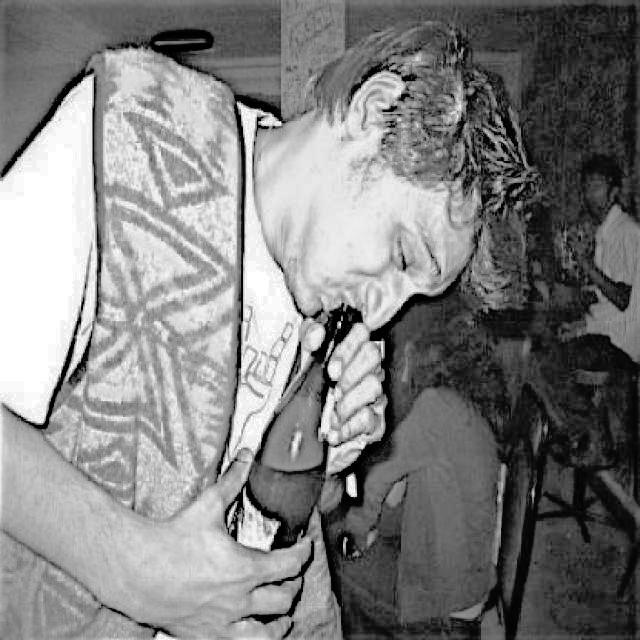Person: (0, 17, 535, 640)
